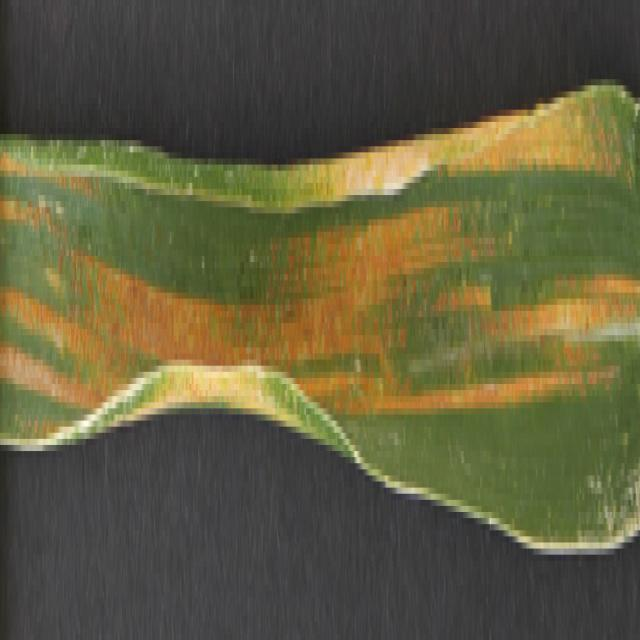leaf rust: (1, 67, 638, 408)
